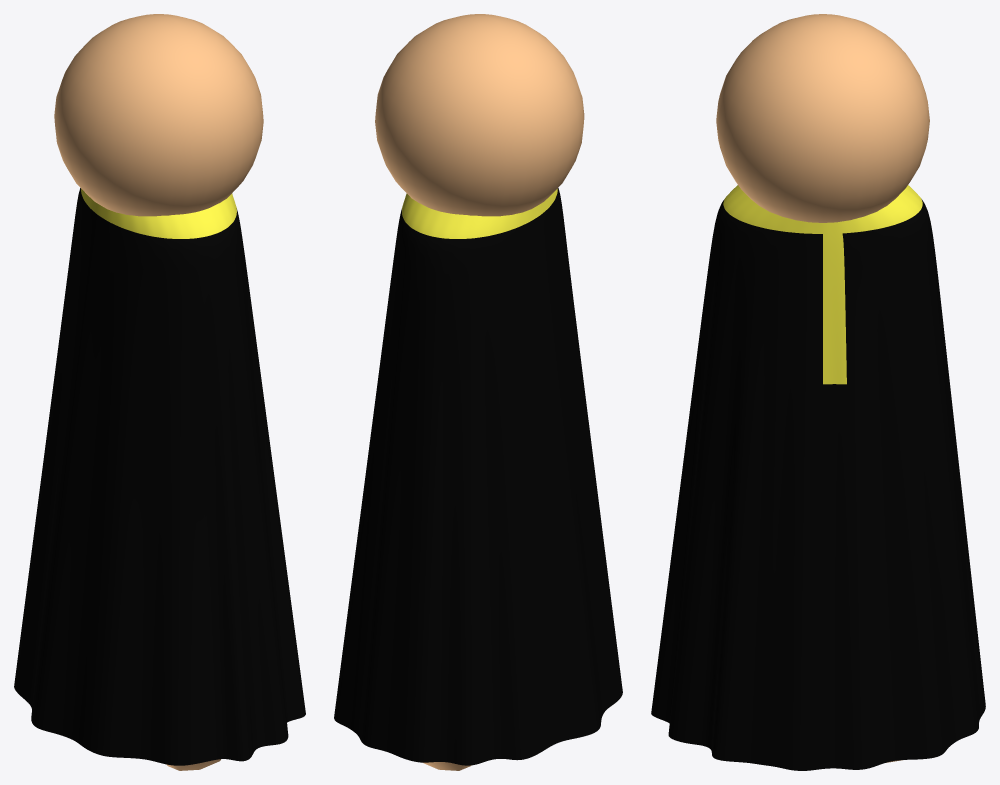
Rendered from cloths.glb.
The picture shows the model from 3 angles, left to right: view 1: azimuth 30°, elevation 25°; view 2: azimuth 150°, elevation 25°; view 3: azimuth 270°, elevation 25°; orthographic projection.
Parts seen in each view (by area): view 1: Cloths, Head; view 2: Cloths, Head; view 3: Cloths, Head.
Boxes of the visible parts, left/top/right/bottom form: Cloths: left=14, top=188, right=305, bottom=765; Head: left=54, top=14, right=263, bottom=216; Cloths: left=334, top=188, right=622, bottom=765; Head: left=375, top=14, right=584, bottom=216; Cloths: left=651, top=185, right=985, bottom=770; Head: left=716, top=14, right=929, bottom=222.
Size of the model in its own units: 2.62 by 7.57 by 3.13.
